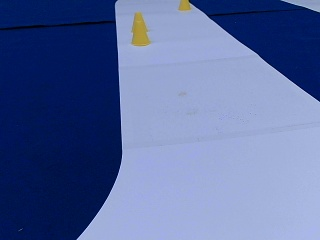cone: (130, 15, 150, 45), (132, 11, 145, 24), (177, 0, 189, 9)
